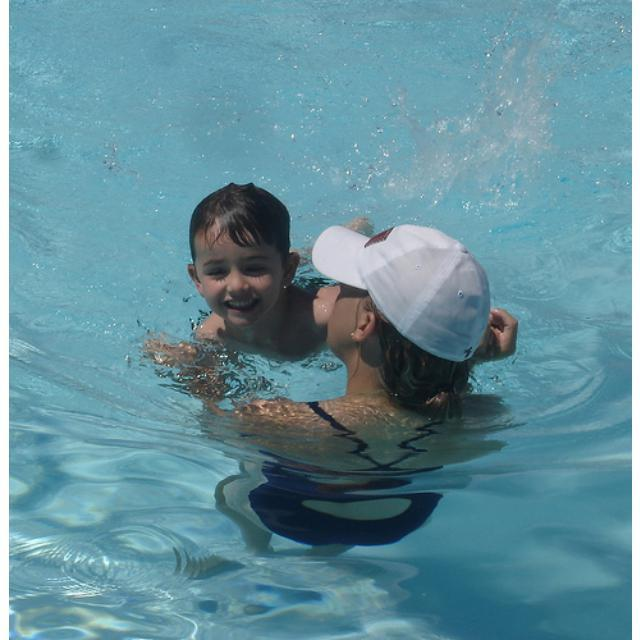human: (224, 219, 490, 558), (175, 182, 333, 359)
